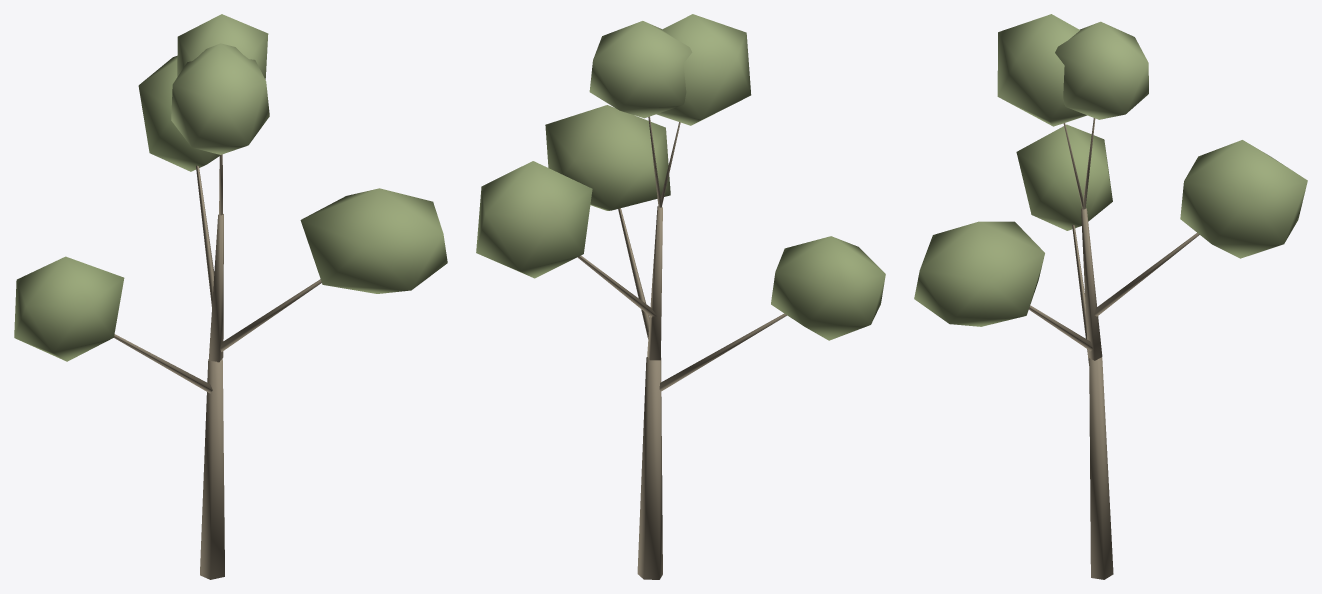
Rendered from birch_a.glb.
3 views of the same model, side by side, from view 1: azimuth 30°, elevation 25°; view 2: azimuth 150°, elevation 25°; view 3: azimuth 270°, elevation 25° (orthographic).
Visible parts, largest first — view 1: birch_a; view 2: birch_a; view 3: birch_a.
Boxes of the visible parts, x1,y1,x2,y2 form: birch_a: (14, 14, 447, 579); birch_a: (476, 14, 885, 579); birch_a: (914, 14, 1307, 579).
Size of the model in its own units: 9 by 12.8 by 8.2.
